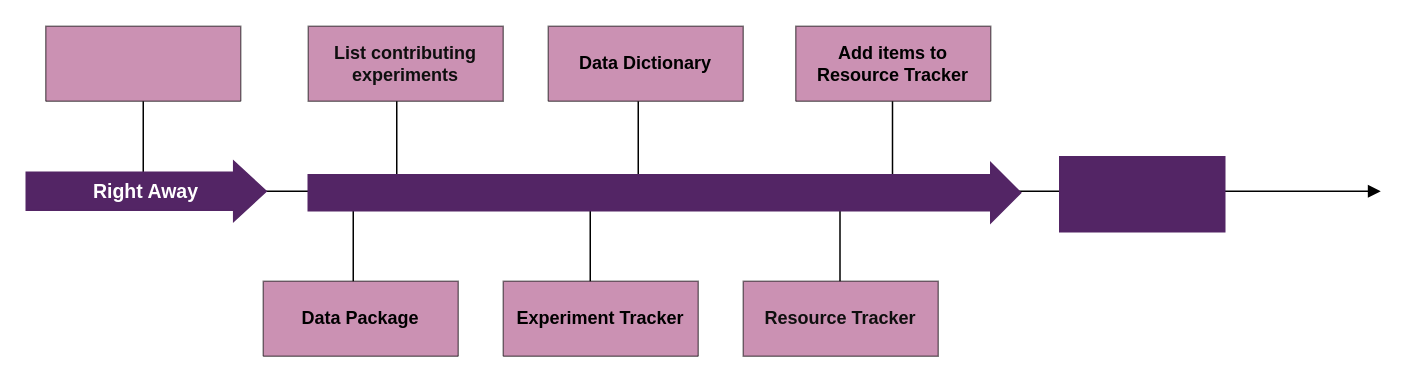
Image size: 1419x383. Some labels were removed from this diagram. The centre of each missing label's shape, as x and y in pixels:
After Dataset-of-Interest Finalized: point 664,192
Finish Preparing Data Package Locally: point 1141,193
NEXT: Prepare for submission: point 1305,160
Set Yourself Up For Success: point 142,63
